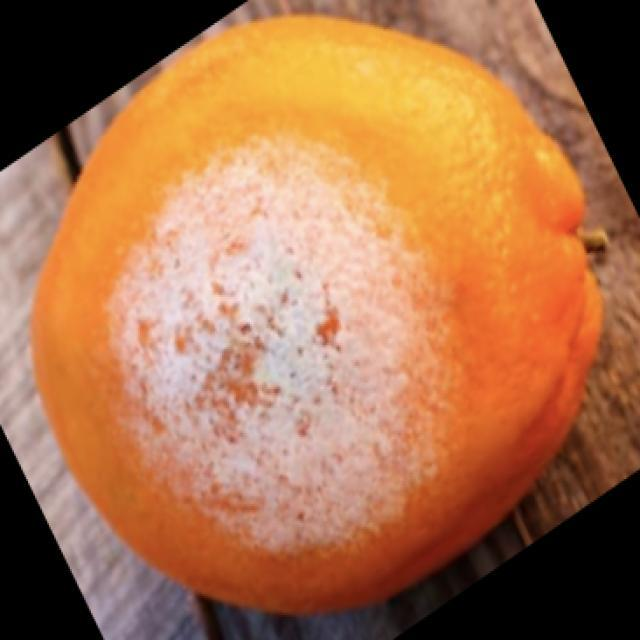sangat-busuk: (33, 15, 601, 613)
